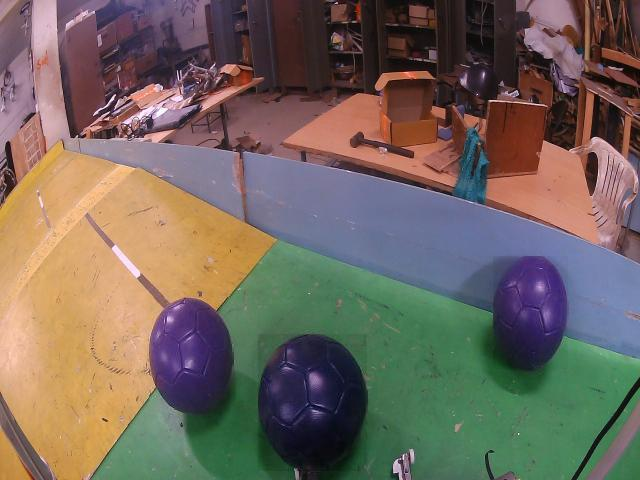jambhalya: (150, 297, 233, 413), (494, 256, 568, 369)
kaalyya: (258, 335, 367, 471)
